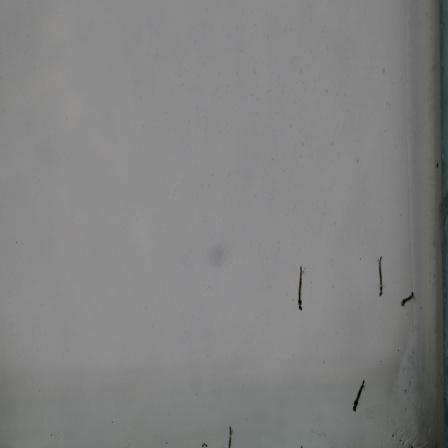Jentik-Nyamuk: (347, 376, 368, 414), (374, 252, 389, 302), (293, 263, 308, 313), (397, 288, 418, 310), (222, 422, 237, 448)
